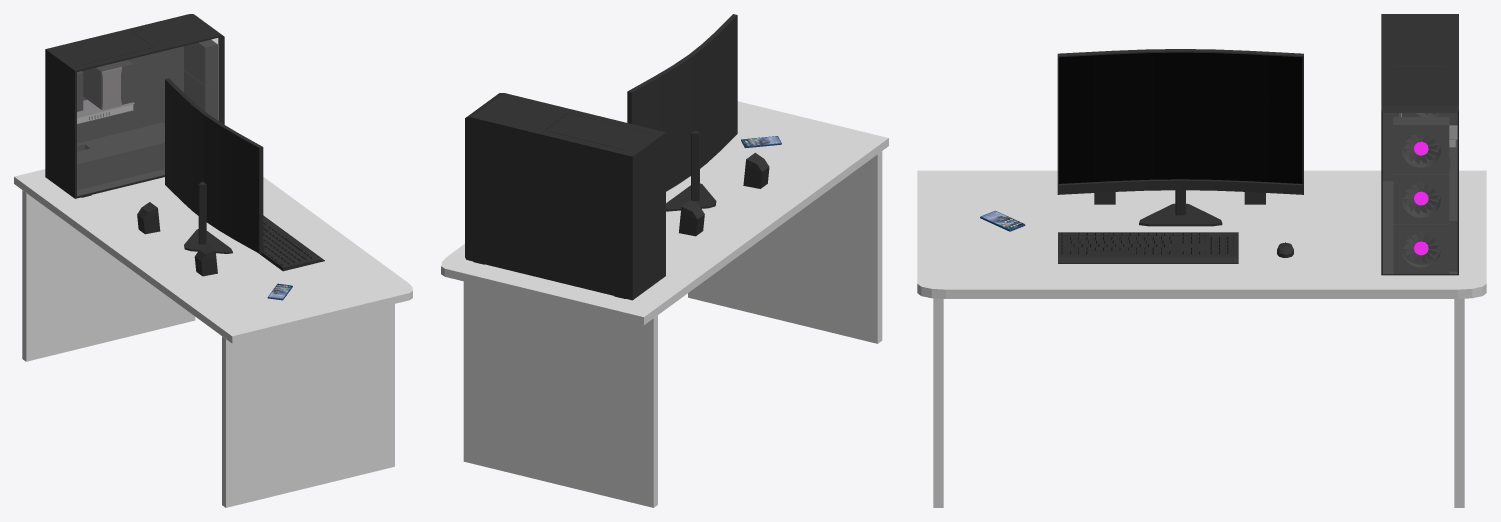
Rendered from computer2.glb.
The picture shows the model from 3 angles, left to right: view 1: azimuth 30°, elevation 25°; view 2: azimuth 150°, elevation 25°; view 3: azimuth 270°, elevation 25°; orthographic projection. The views are drawn at different scales.
Parts seen in each view (by area): view 1: Table, CPU, CPU Glass.001, Pc, CPU Part, Keyboard, Fan.004, Fan.001, Stand, Fan.002, CPU Part.005, Speaker-R (+1 smaller); view 2: Table, CPU, Pc, Stand, Speaker-R, Speaker-L; view 3: Table, Monitor, CPU Glass, CPU, Keyboard, Pc, Fan.001, Fan.002, Fan.003, Stand, CPU Part.
Boxes of the visible parts, <box> form: Table: <box>14,169,412,507</box>; CPU: <box>45,14,224,198</box>; CPU Glass.001: <box>77,38,217,195</box>; Pc: <box>165,78,264,253</box>; CPU Part: <box>77,122,164,190</box>; Keyboard: <box>258,215,324,271</box>; Fan.004: <box>82,60,133,109</box>; Fan.001: <box>184,39,217,85</box>; Stand: <box>184,181,232,253</box>; Fan.002: <box>184,70,217,120</box>; CPU Part.005: <box>101,67,121,110</box>; Speaker-R: <box>137,202,160,234</box>; Table: <box>441,101,888,507</box>; CPU: <box>465,93,665,300</box>; Pc: <box>627,14,737,191</box>; Stand: <box>666,130,716,211</box>; Speaker-R: <box>679,200,704,236</box>; Speaker-L: <box>743,152,769,188</box>; Table: <box>917,170,1486,507</box>; Monitor: <box>1059,52,1302,183</box>; CPU Glass: <box>1383,113,1457,273</box>; CPU: <box>1381,14,1458,275</box>; Keyboard: <box>1058,232,1238,263</box>; Pc: <box>1057,49,1303,194</box>; Fan.001: <box>1393,117,1449,174</box>; Fan.002: <box>1393,174,1449,224</box>; Fan.003: <box>1393,224,1449,274</box>; Stand: <box>1139,190,1222,226</box>; CPU Part: <box>1402,147,1457,271</box>.
Size of the model in its own units: 2.15 by 3.36 by 4.34.
10 materials, 2 textured.
